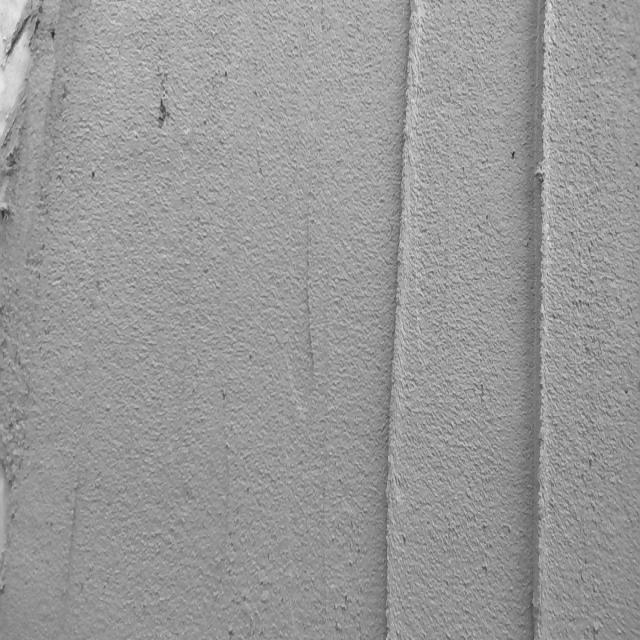trowels marks: (380, 2, 425, 640), (528, 1, 560, 640)
